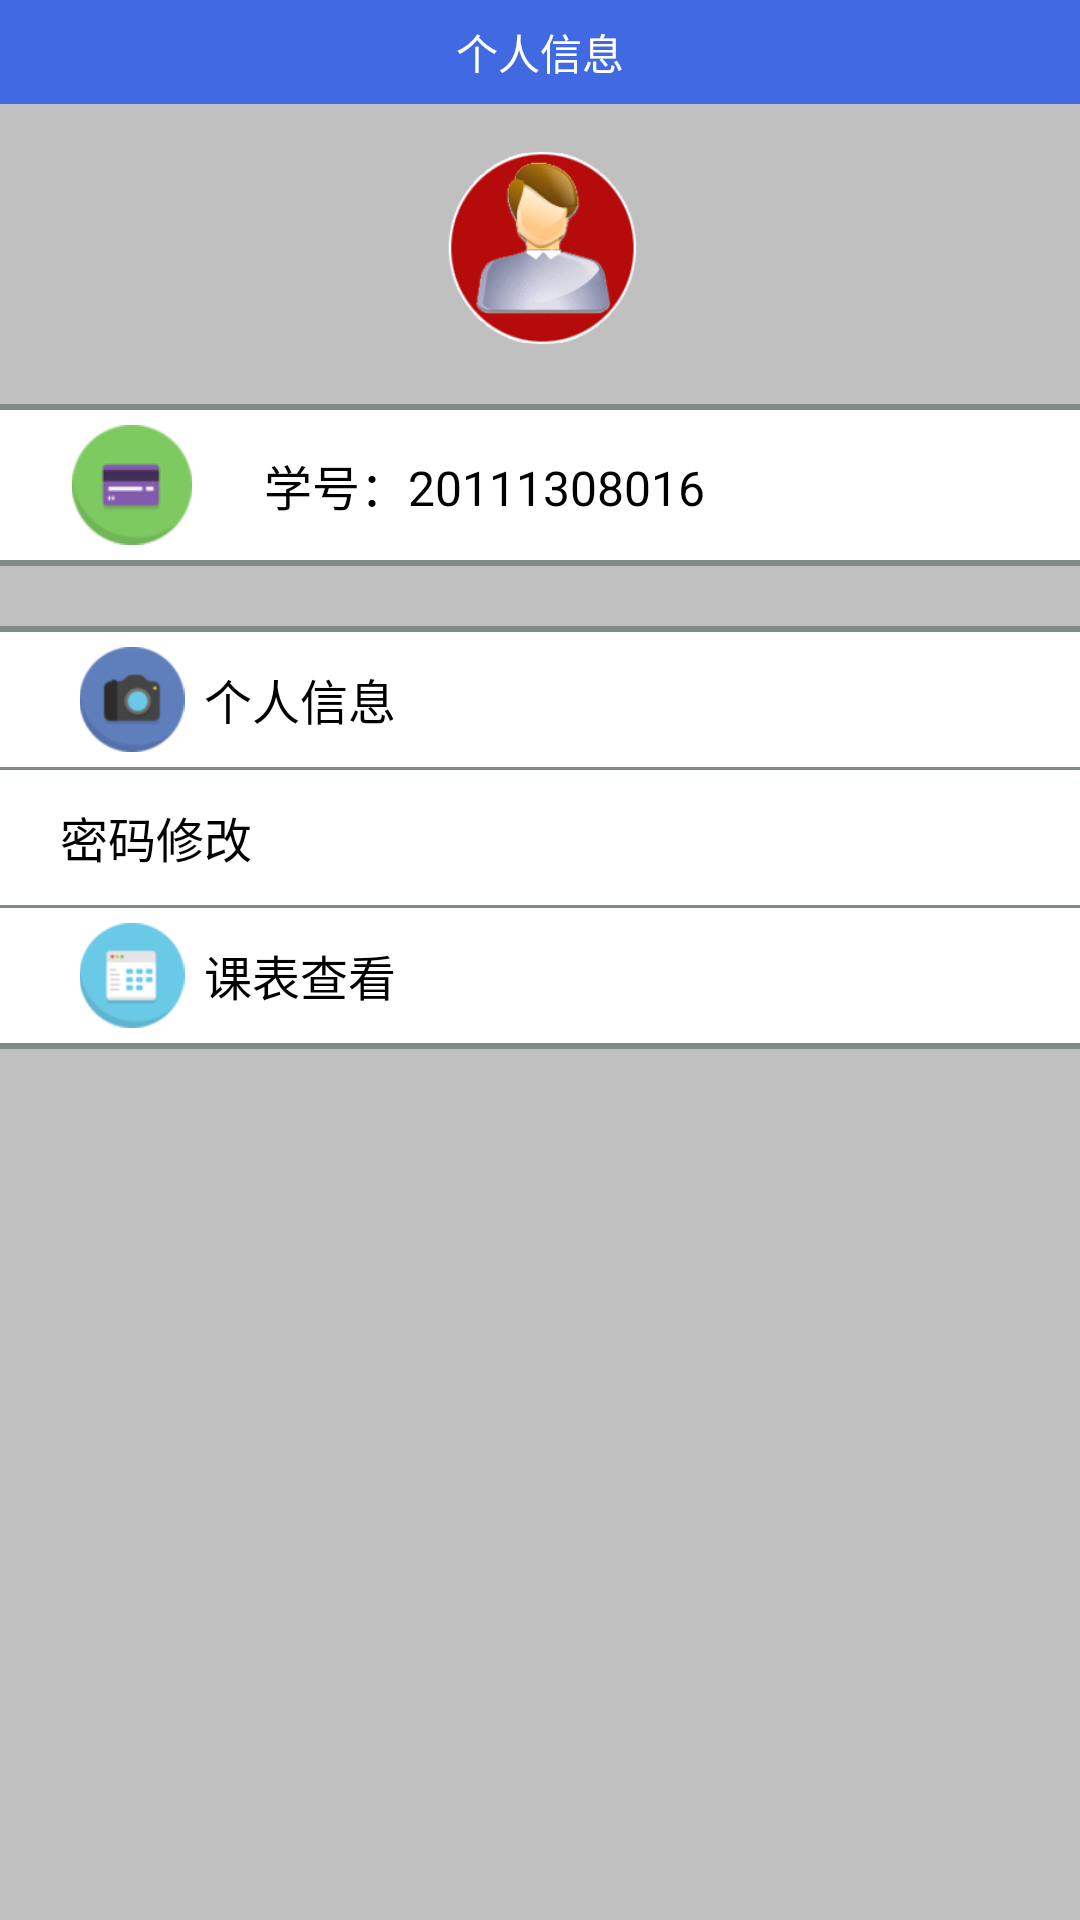

Icons on this 1080w x 1920h Android screen, each with its box as (x1, y1, x2, y2):
per id: (72, 425, 192, 545)
per schedule: (80, 923, 185, 1028)
user: (449, 152, 636, 344)
